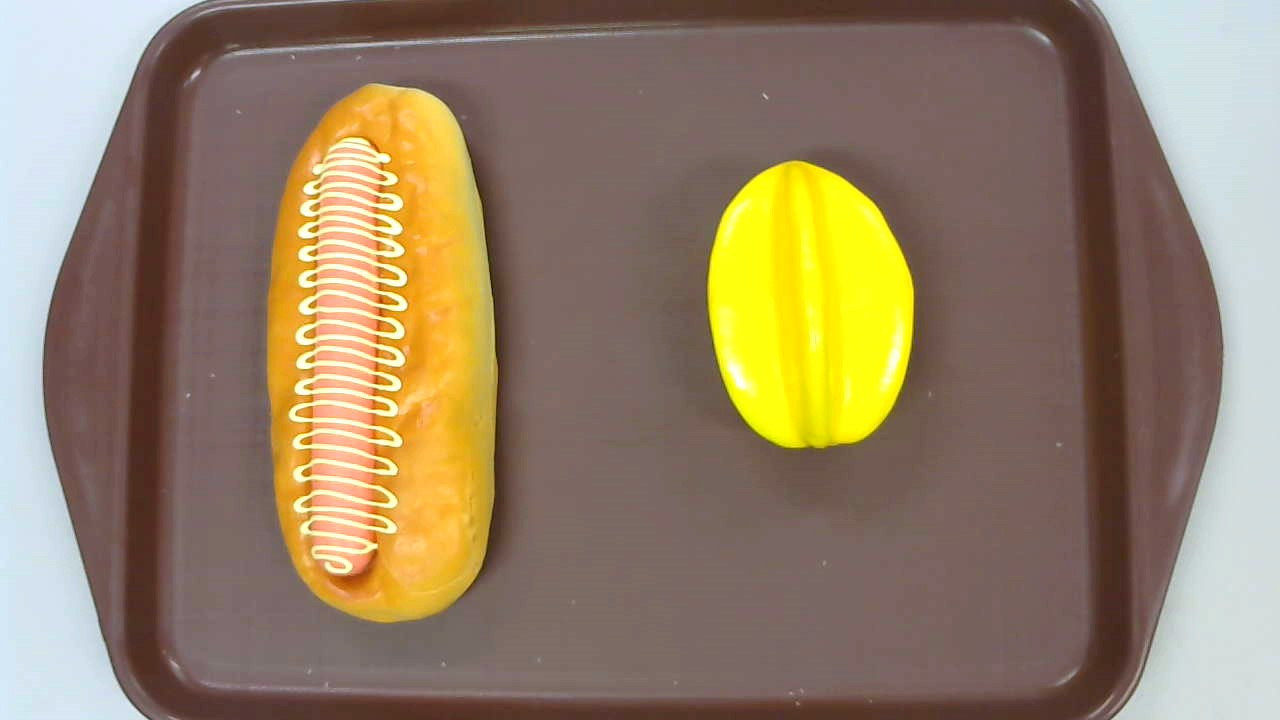hot dog: (264, 83, 498, 622)
star fruit: (706, 157, 914, 453)
